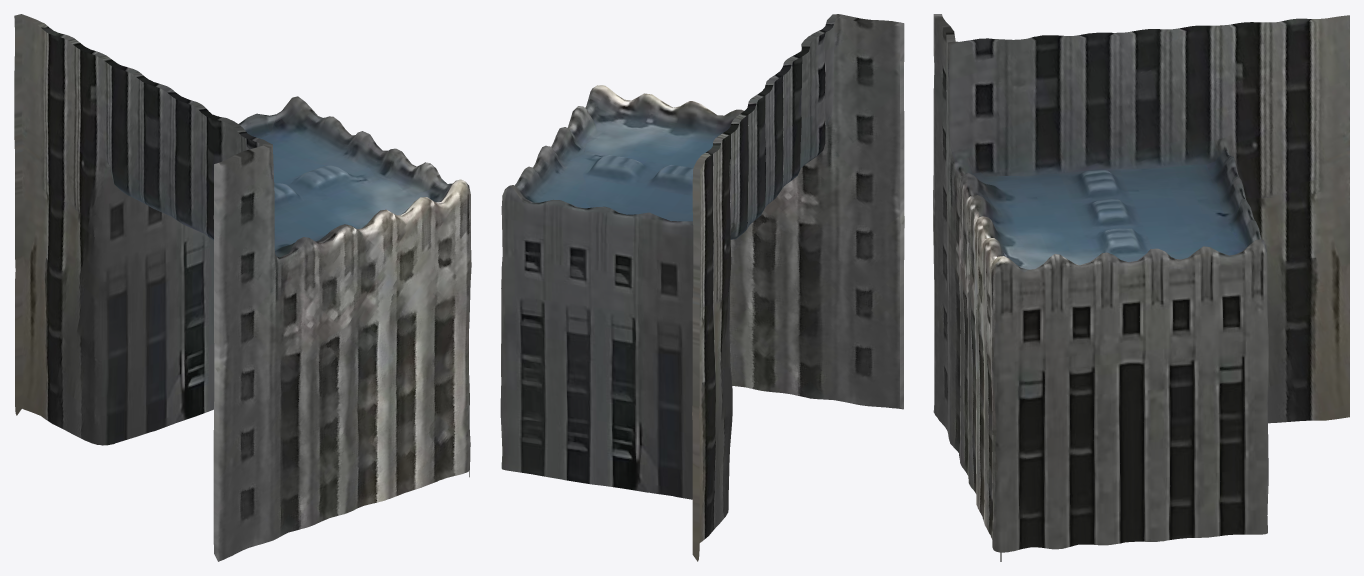
File: z20-167772-405234-h1-yup-uvflip-v3-world.glb
3 views of the same model, side by side, from view 1: azimuth 30°, elevation 25°; view 2: azimuth 150°, elevation 25°; view 3: azimuth 270°, elevation 25° (orthographic). The views are drawn at different scales.
Bounding box in the file's own units: 19.28 × 26.16 × 24.24.
1 material, 1 textured.
